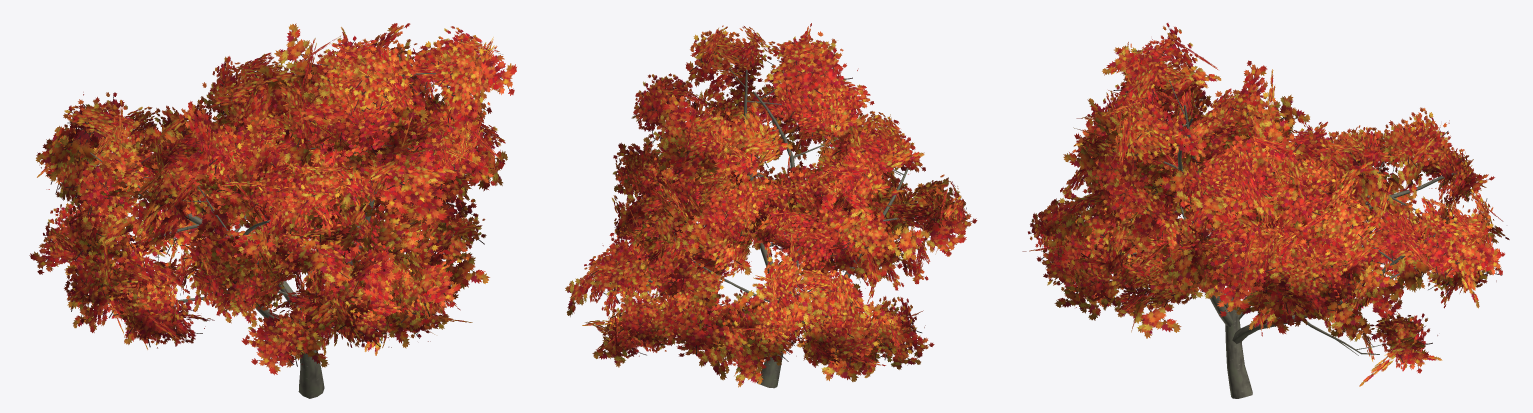
Rendered from Momiji_A.fbx.
3 views of the same model, side by side, from view 1: azimuth 30°, elevation 25°; view 2: azimuth 150°, elevation 25°; view 3: azimuth 270°, elevation 25° (orthographic). The views are drawn at different scales.
Visible parts, largest first — view 1: Momiji_A; view 2: Momiji_A; view 3: Momiji_A.
Boxes of the visible parts, x1,y1,x2,y2 form: Momiji_A: [29, 23, 516, 398]; Momiji_A: [565, 23, 977, 388]; Momiji_A: [1022, 23, 1509, 398].
Size of the model in its own units: 7.57 by 7.16 by 8.76.
2 materials, 2 textured.
